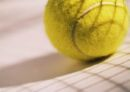tennis ball: (41, 1, 128, 63)
